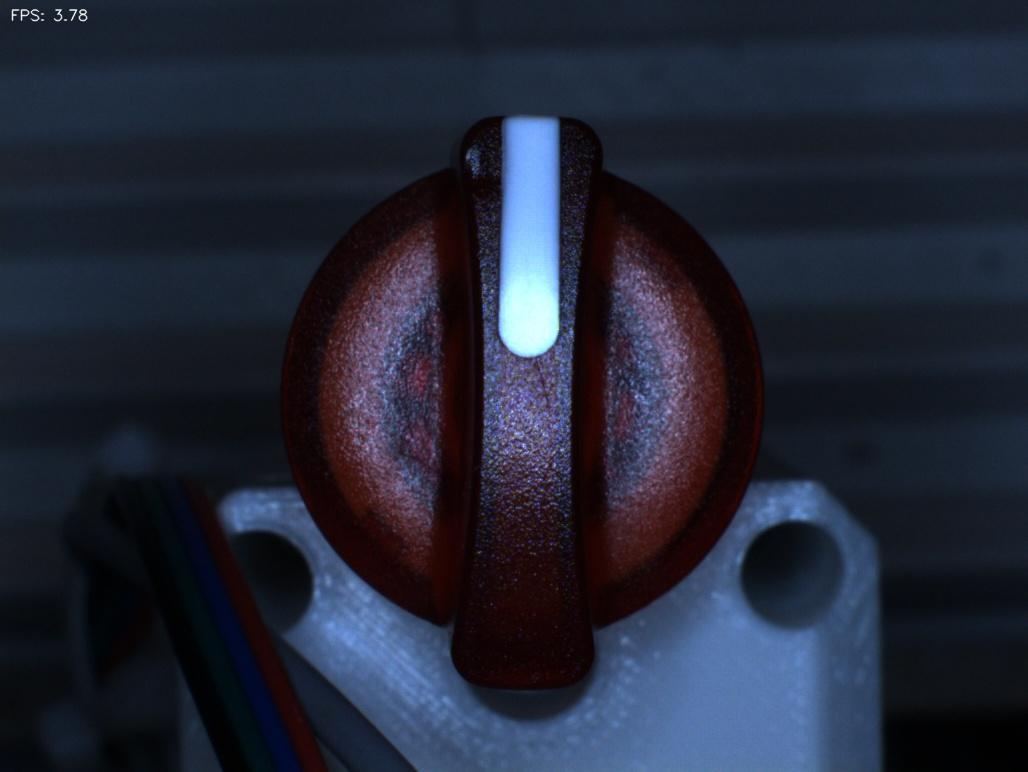Choc: (427, 116, 511, 204)
